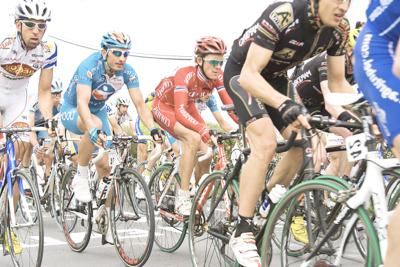With Helmet: (10, 0, 55, 48), (190, 32, 230, 81), (95, 27, 137, 72)
